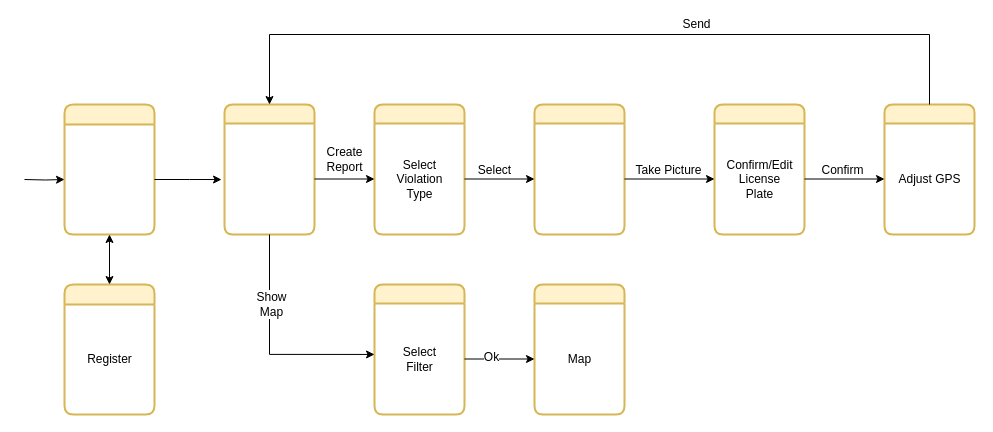
This 993x432 diagram has some shape labels left out. Here are the shapes that lost their labels. From the top down, the centre of each, then its label:
At pixel 109 169: "Login".
At pixel 269 169: "Main Menu".
At pixel 579 169: "Picture of the Violation".
